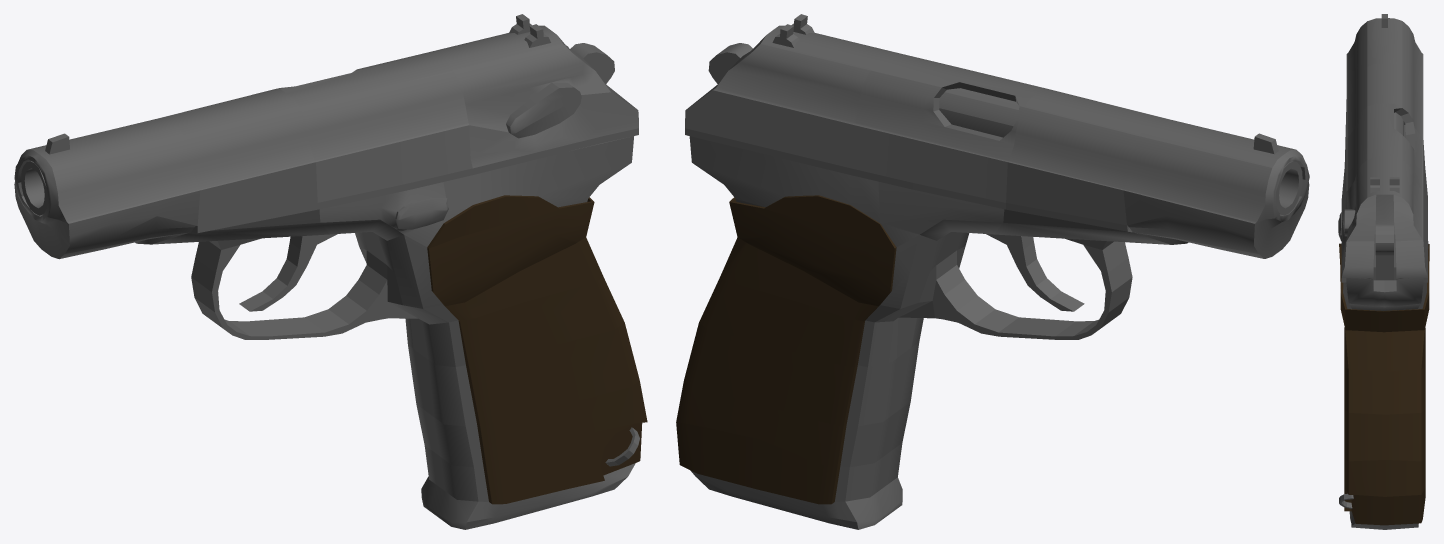
Rendered from Makarov.fbx.
3 renders of one model, left to right at view 1: azimuth 30°, elevation 25°; view 2: azimuth 150°, elevation 25°; view 3: azimuth 270°, elevation 25°, orthographic. The views are drawn at different scales.
Parts seen in each view (by area): view 1: Grip1; view 2: Grip1; view 3: Grip1.
Part boxes in pixels (x1,y1,x2,y2): Grip1: (14,14,647,529); Grip1: (676,14,1309,529); Grip1: (1338,14,1429,529).
Size of the model in its own units: 49.8 by 37.68 by 9.35.
